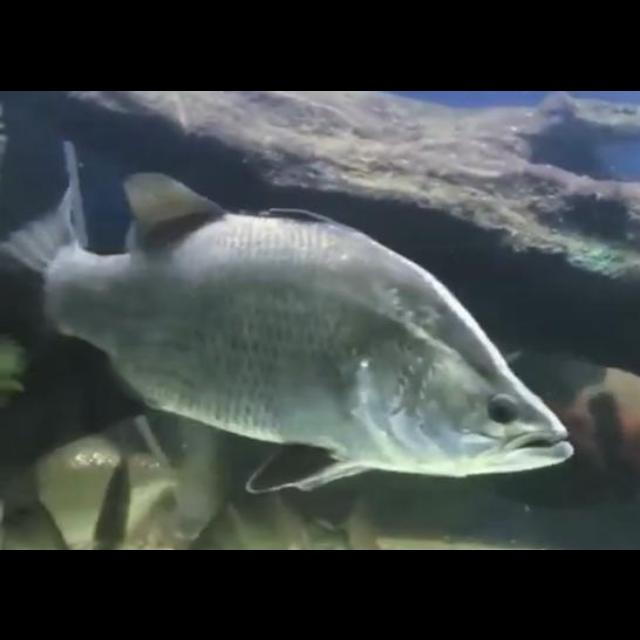Seabass: (0, 142, 576, 492)
